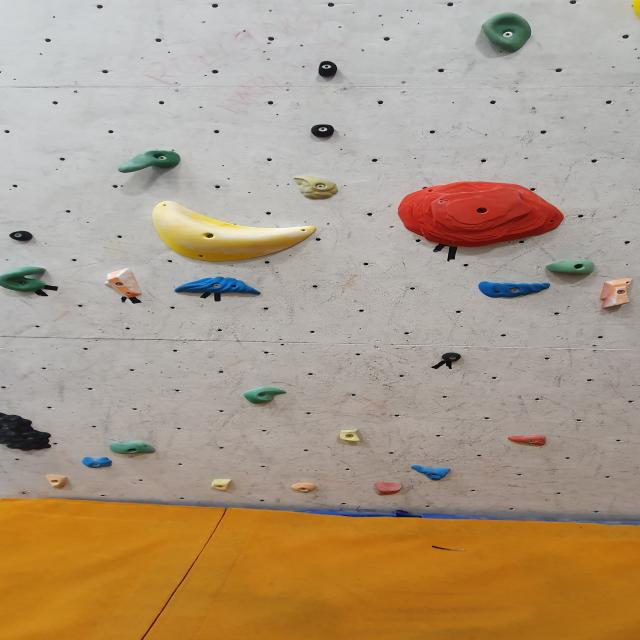Crimp: (397, 182, 570, 249), (172, 277, 264, 297), (475, 281, 556, 298), (292, 175, 341, 201), (409, 465, 452, 480), (504, 434, 552, 446), (81, 456, 115, 469), (337, 428, 363, 444), (291, 482, 320, 495), (209, 479, 233, 493)
Jug: (481, 14, 536, 54), (0, 412, 55, 452), (114, 150, 184, 174), (0, 267, 52, 295), (545, 261, 597, 277), (108, 442, 160, 458), (242, 387, 290, 404)
Pinch: (105, 267, 144, 297), (601, 278, 637, 308), (422, 348, 470, 368), (306, 126, 339, 140), (45, 474, 72, 491), (316, 62, 339, 79), (6, 232, 35, 243)
Sloper: (148, 203, 322, 265), (373, 482, 405, 496), (630, 0, 640, 23)
